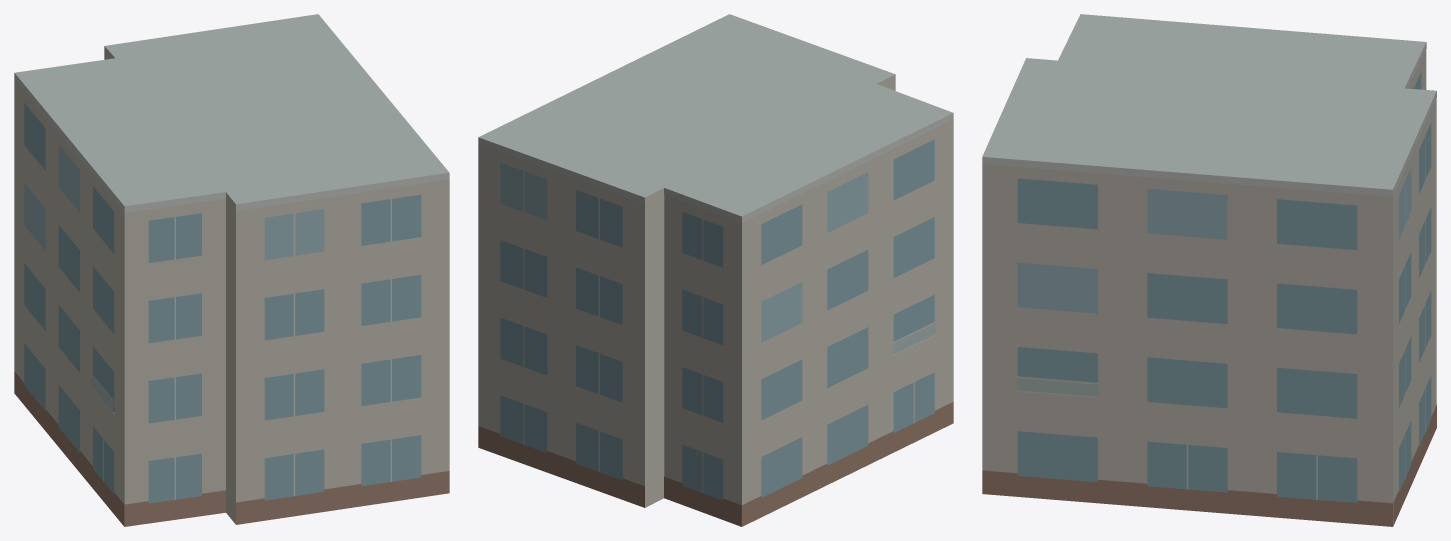
Rendered from survey-upis-32537519.glb.
The picture shows the model from 3 angles, left to right: view 1: azimuth 30°, elevation 25°; view 2: azimuth 150°, elevation 25°; view 3: azimuth 270°, elevation 25°; orthographic projection. The views are drawn at different scales.
Parts seen in each view (by area): view 1: survey-upis-32537519.tmp; view 2: survey-upis-32537519.tmp; view 3: survey-upis-32537519.tmp.
Part boxes in pixels (x1,y1,x2,y2): survey-upis-32537519.tmp: [14, 14, 449, 526]; survey-upis-32537519.tmp: [478, 14, 953, 526]; survey-upis-32537519.tmp: [982, 14, 1436, 526].
Bounding box in the file's own units: 13.03 × 11.65 × 14.25.
